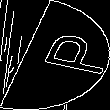P_W: (10, 29, 100, 81)
